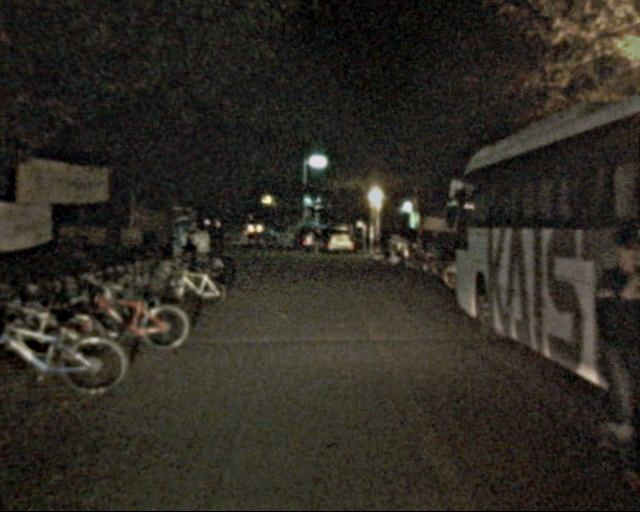person: (556, 230, 640, 482), (186, 221, 209, 276), (306, 227, 320, 262), (292, 228, 306, 261)
